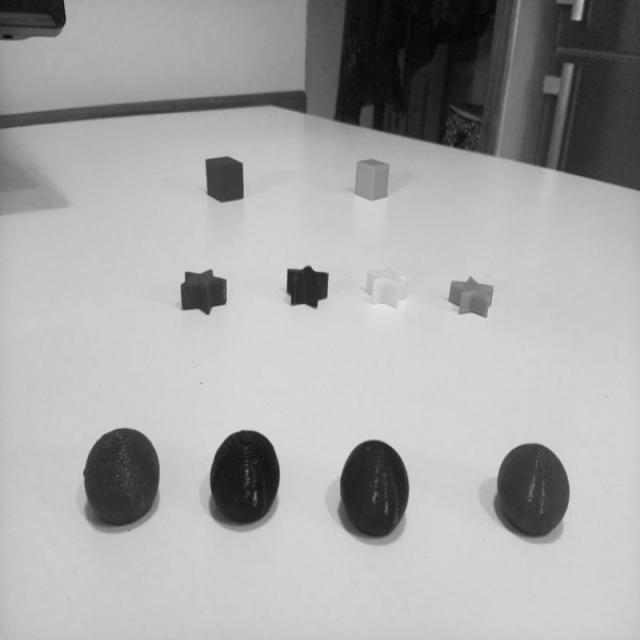ball: (78, 421, 163, 534), (494, 436, 574, 546), (334, 435, 412, 544), (206, 425, 283, 534)
cube: (202, 150, 248, 208), (351, 153, 393, 209)
star: (177, 265, 231, 322), (282, 261, 332, 316), (447, 270, 495, 325), (362, 262, 412, 313)
